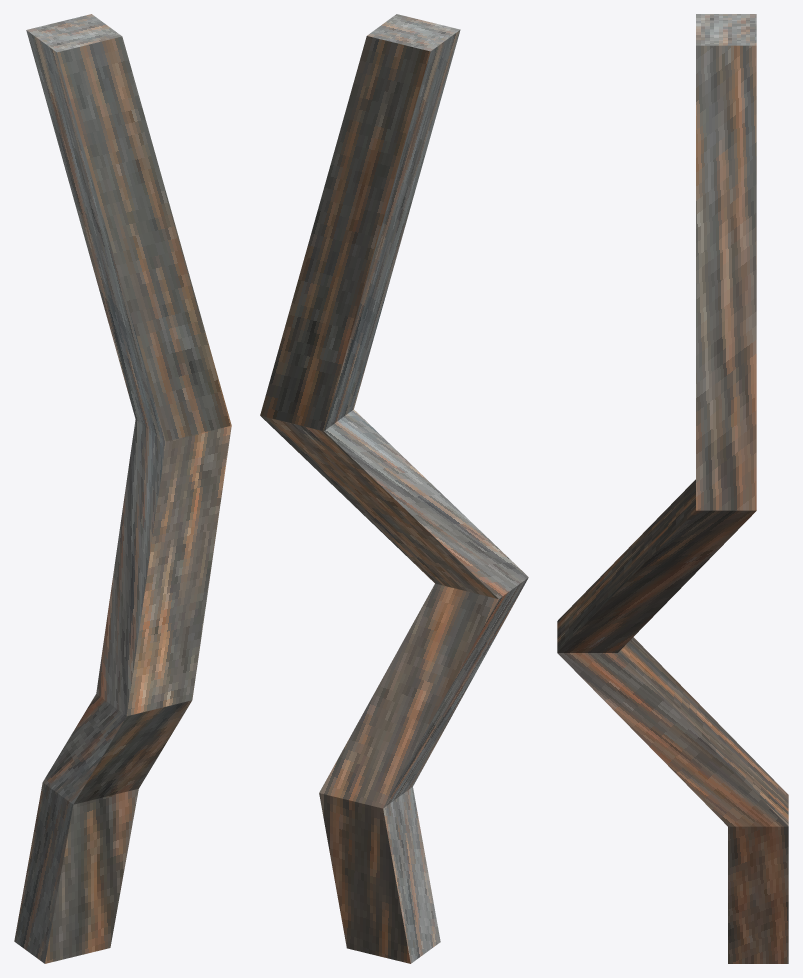
File: Tree2.glb
The picture shows the model from 3 angles, left to right: view 1: azimuth 30°, elevation 25°; view 2: azimuth 150°, elevation 25°; view 3: azimuth 270°, elevation 25°; orthographic projection. The views are drawn at different scales.
Visible parts, largest first — view 1: Cube.001; view 2: Cube.001; view 3: Cube.001.
Part boxes in pixels (left/top/right/bottom): Cube.001: left=14, top=14, right=231, bottom=963; Cube.001: left=260, top=14, right=528, bottom=963; Cube.001: left=557, top=14, right=788, bottom=963.
Bounding box in the file's own units: 2.4 × 12.14 × 2.78.
1 material, 1 textured.
